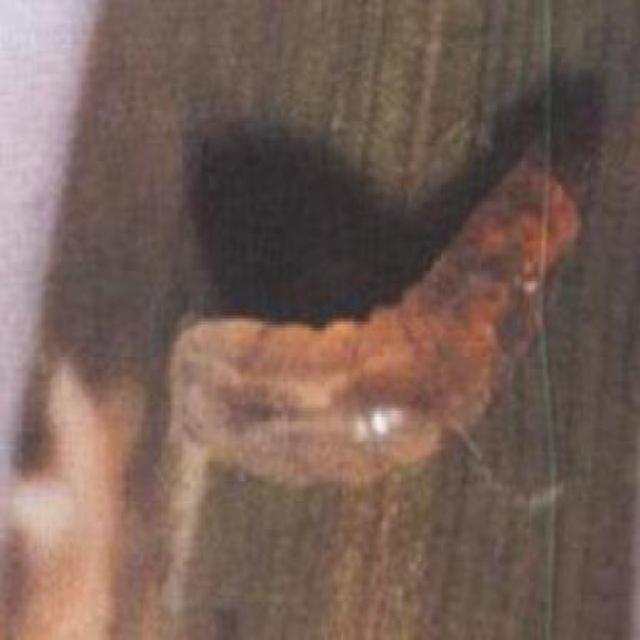whorl-maggot: (173, 149, 582, 496)
